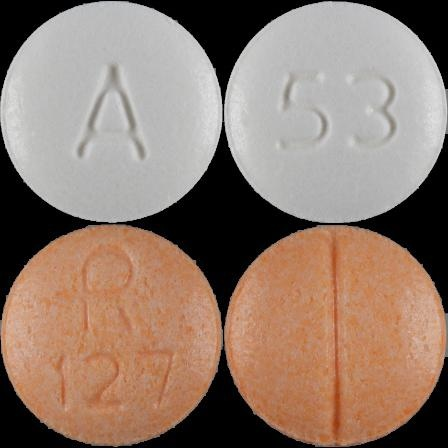16590-259: (0, 0, 224, 224)
